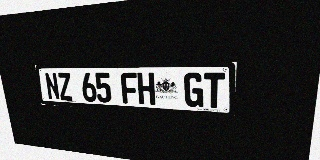5: (95, 73, 112, 103)
6: (80, 73, 97, 102)
F: (120, 73, 138, 104)
G: (184, 73, 203, 107)
H: (137, 73, 155, 105)
N: (44, 73, 60, 100)
T: (204, 73, 225, 108)
Z: (57, 73, 73, 101)
